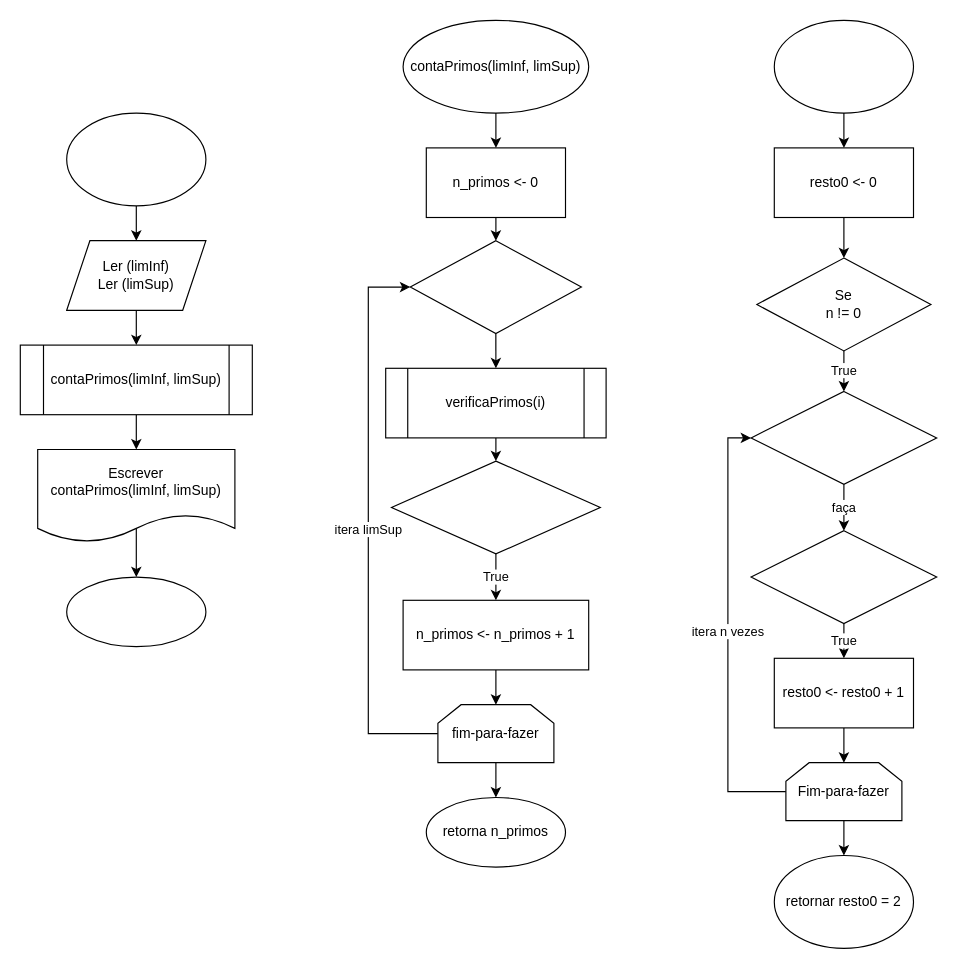
Image size: 957x969. Some labels were removed from this diagram. The shapes that lost their labels are listed below. From the top down, each one's centre as x and y in pixels, then its label:
At (843,66): "verificaPrimos(n)".
At (136,159): "Inicio".
At (495,287): "i < limSup".
At (843,437): "i < n".
At (495,507): "Se verificaPrimos(i)".
At (843,577): "Se n % i = 0".
At (136,611): "Fim".
